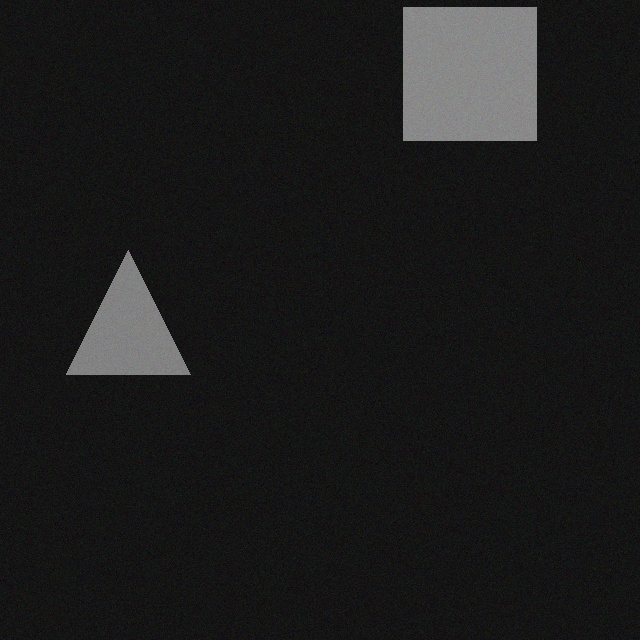square: (413, 12, 546, 145)
triangle: (76, 255, 200, 379)
